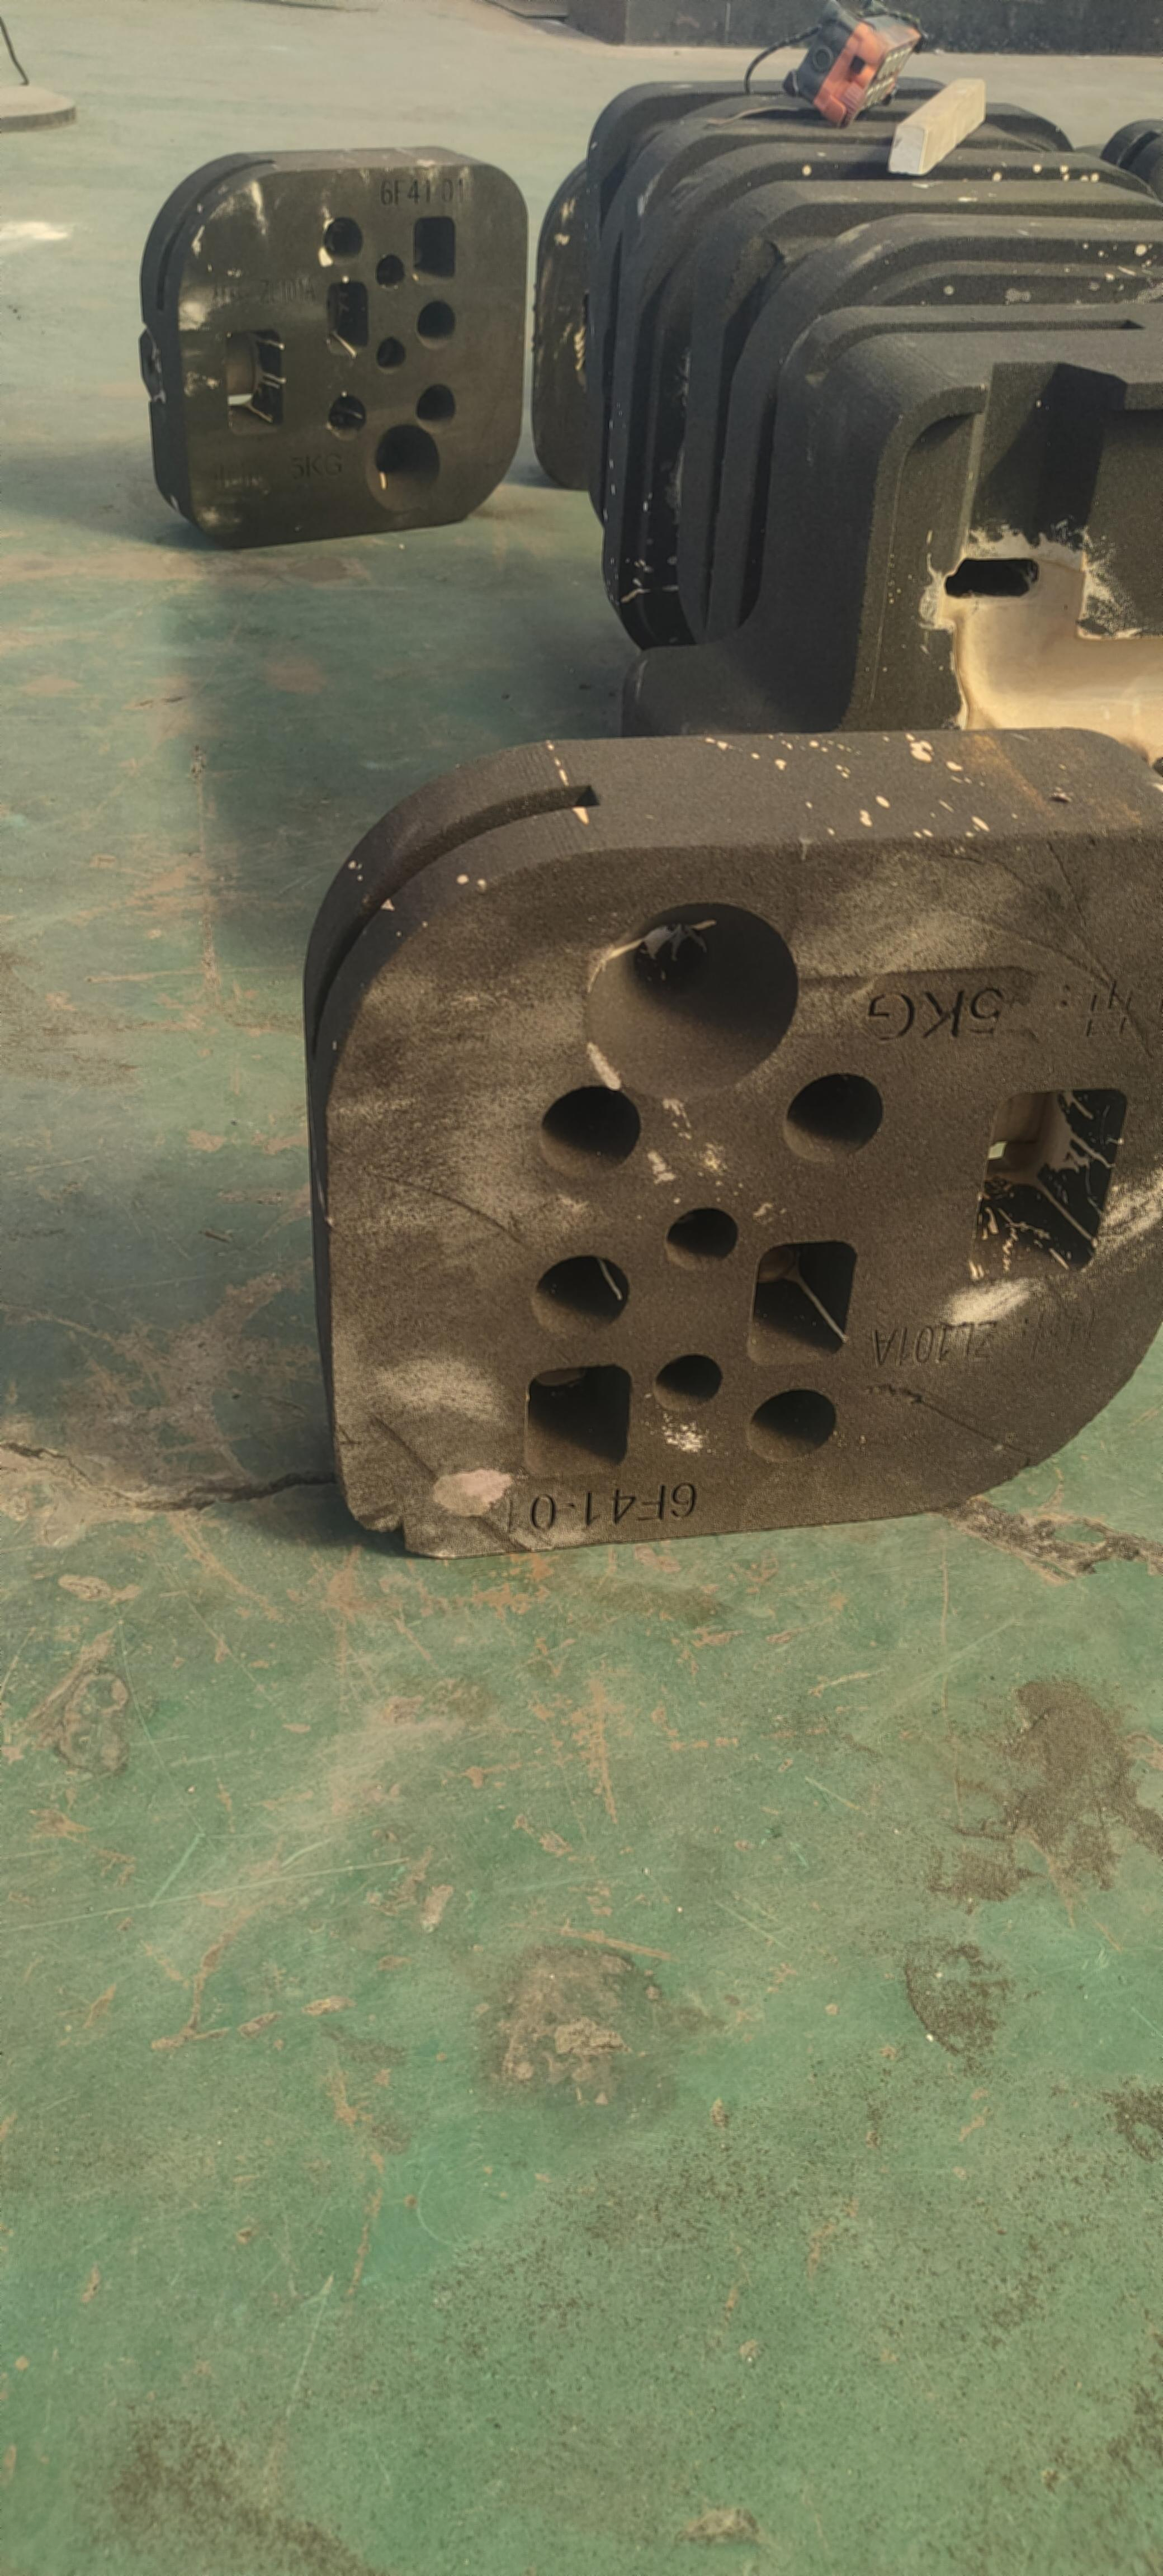pouring hole: (585, 902, 798, 1097), (365, 424, 440, 513)
